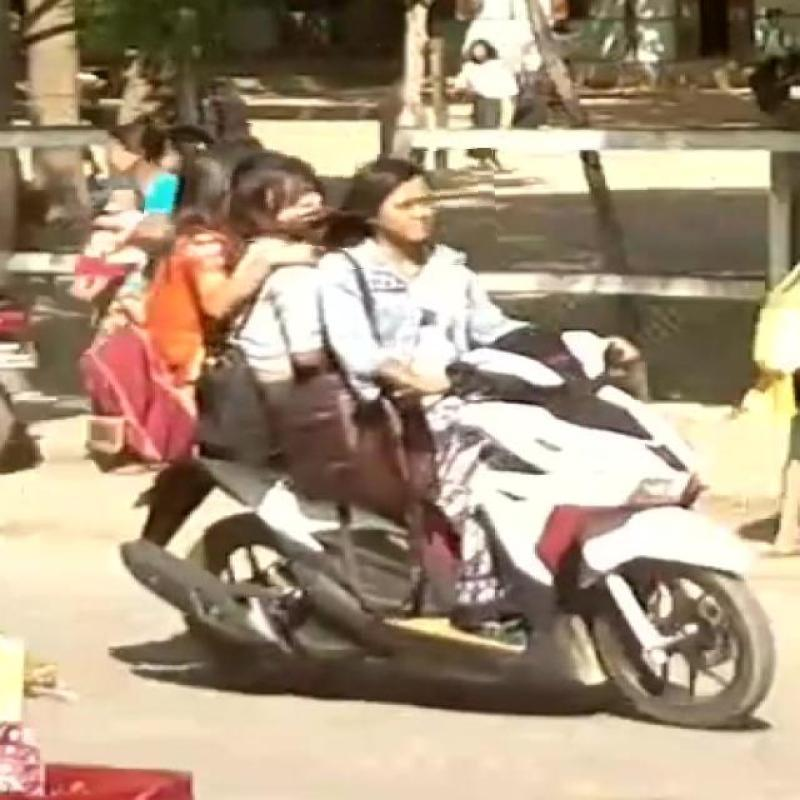nohelmet: (344, 150, 497, 268), (231, 124, 356, 246), (146, 133, 225, 228)
